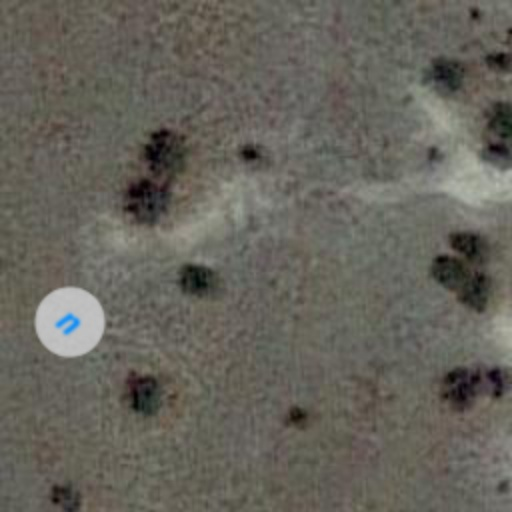circle: (20, 272, 120, 372)
